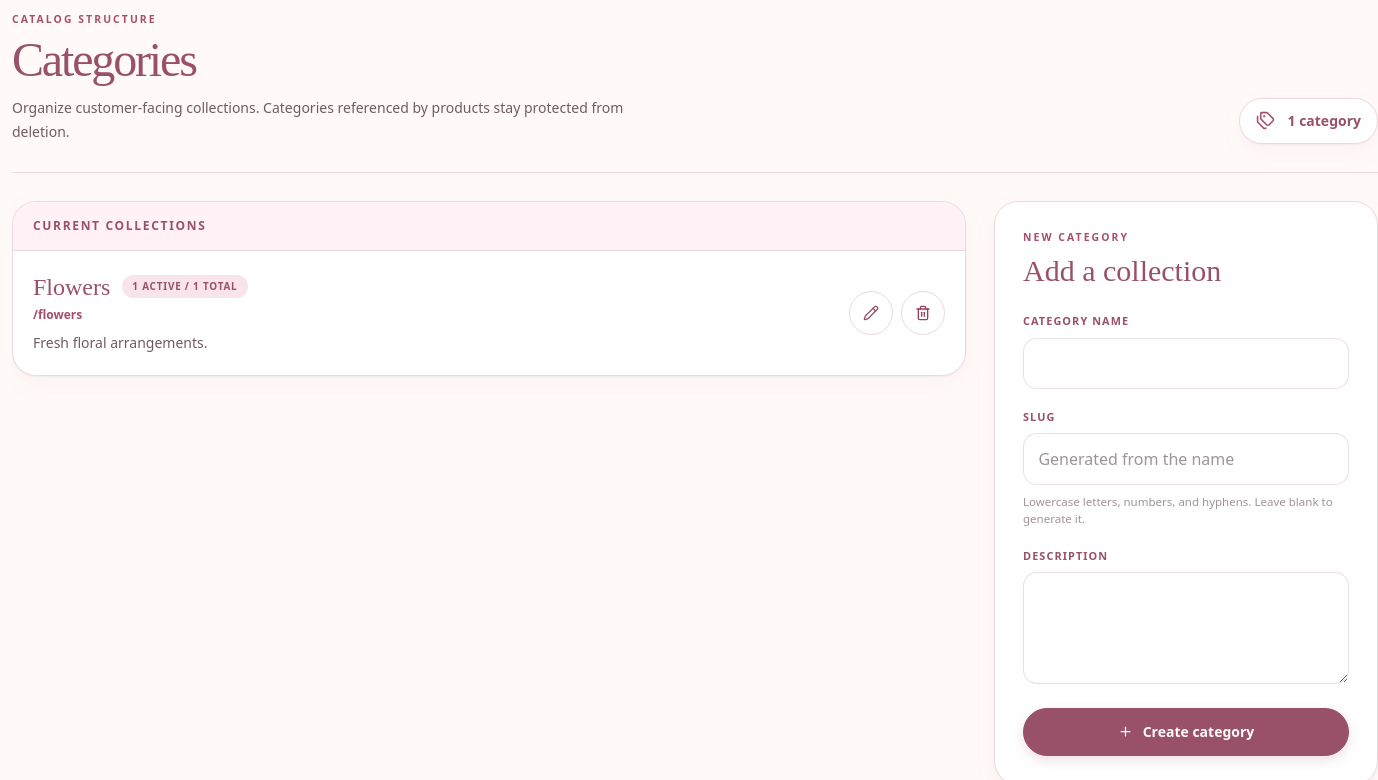
Test case: admin catalog flows › creates a category and refreshes the management list
The image size is (1378, 780).
Expected: the heading "Flowers" is shown, [33,271,110,303]
In the field labelled "Category name": (1186, 363) [1023,338,1349,389], type "Garden Tools"
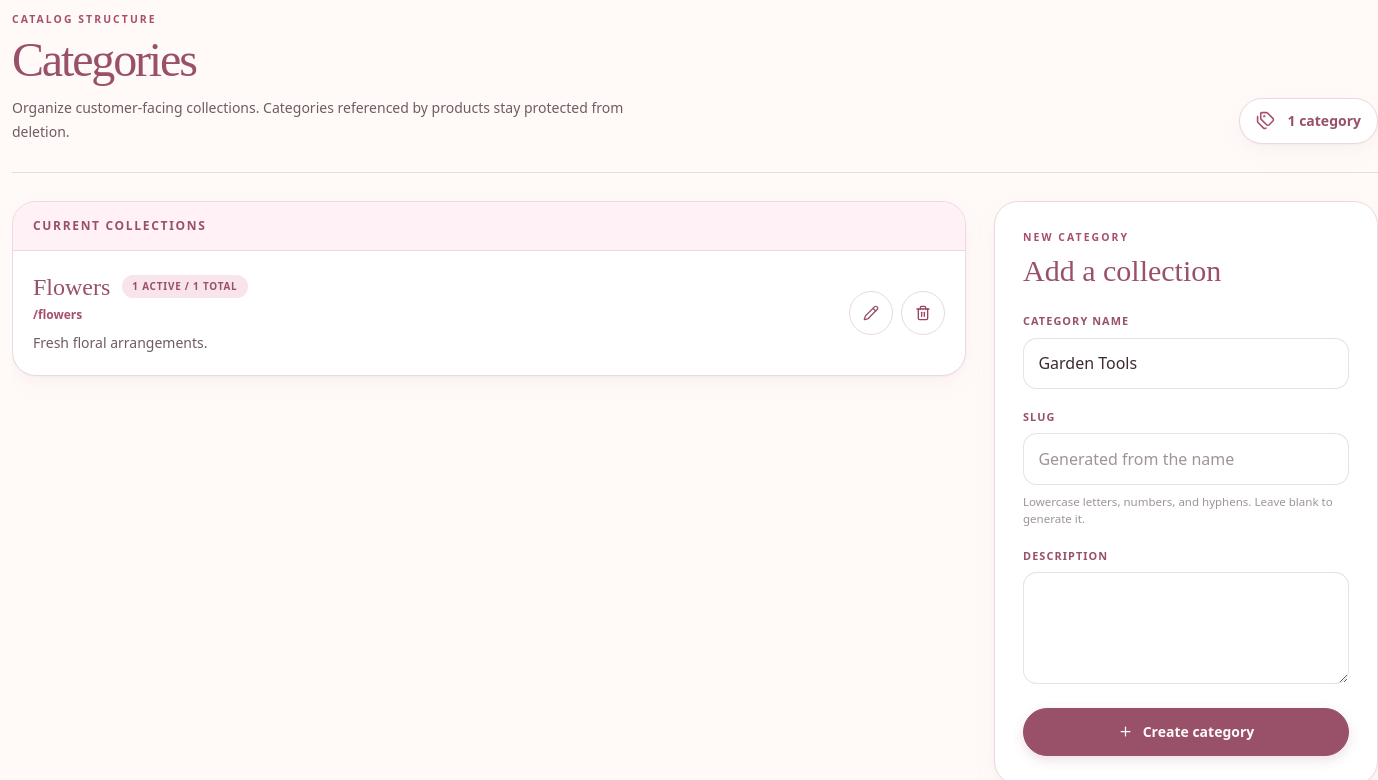
In the field labelled "Slug": (1186, 459) [1023,433,1349,485], type "garden-tools"
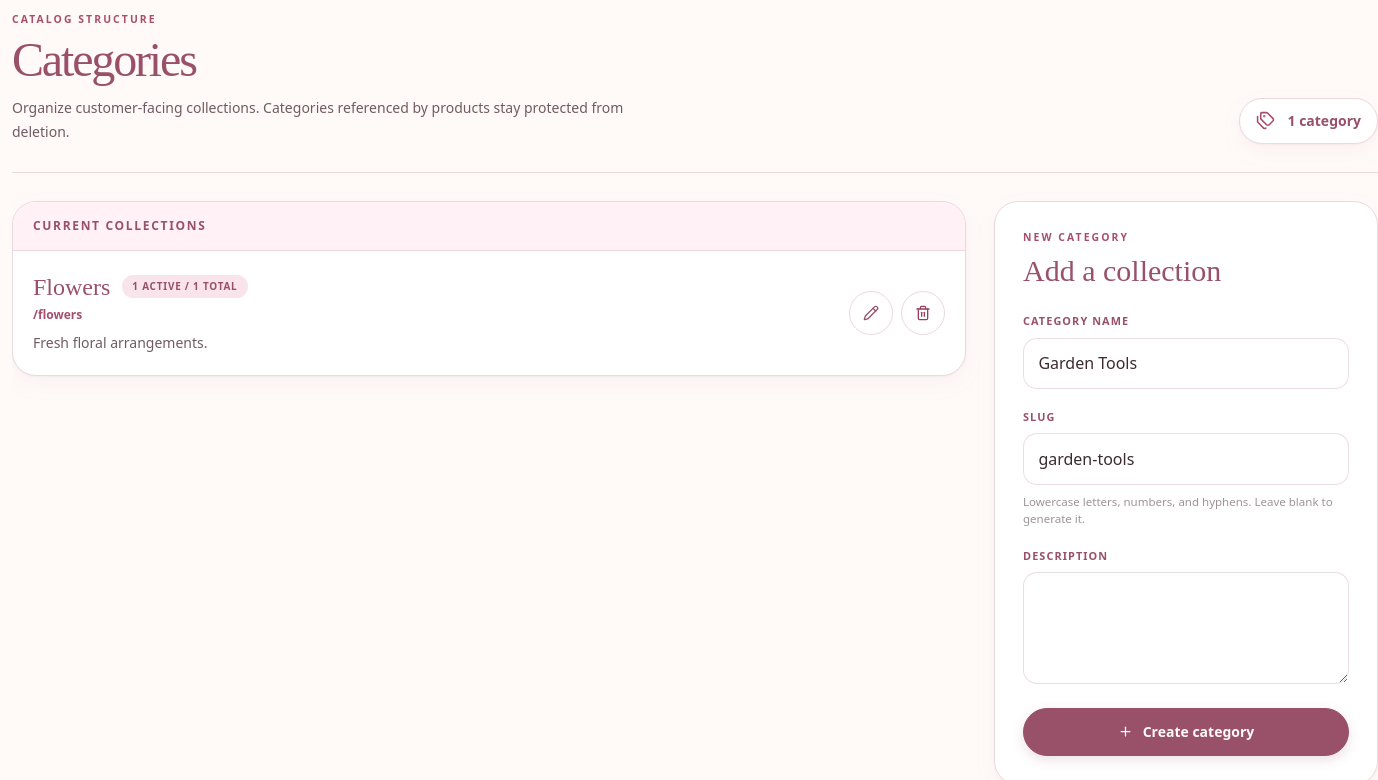
In the text box labelled "Description": (1186, 628) [1023,572,1349,684], type "Tools for home gardeners."
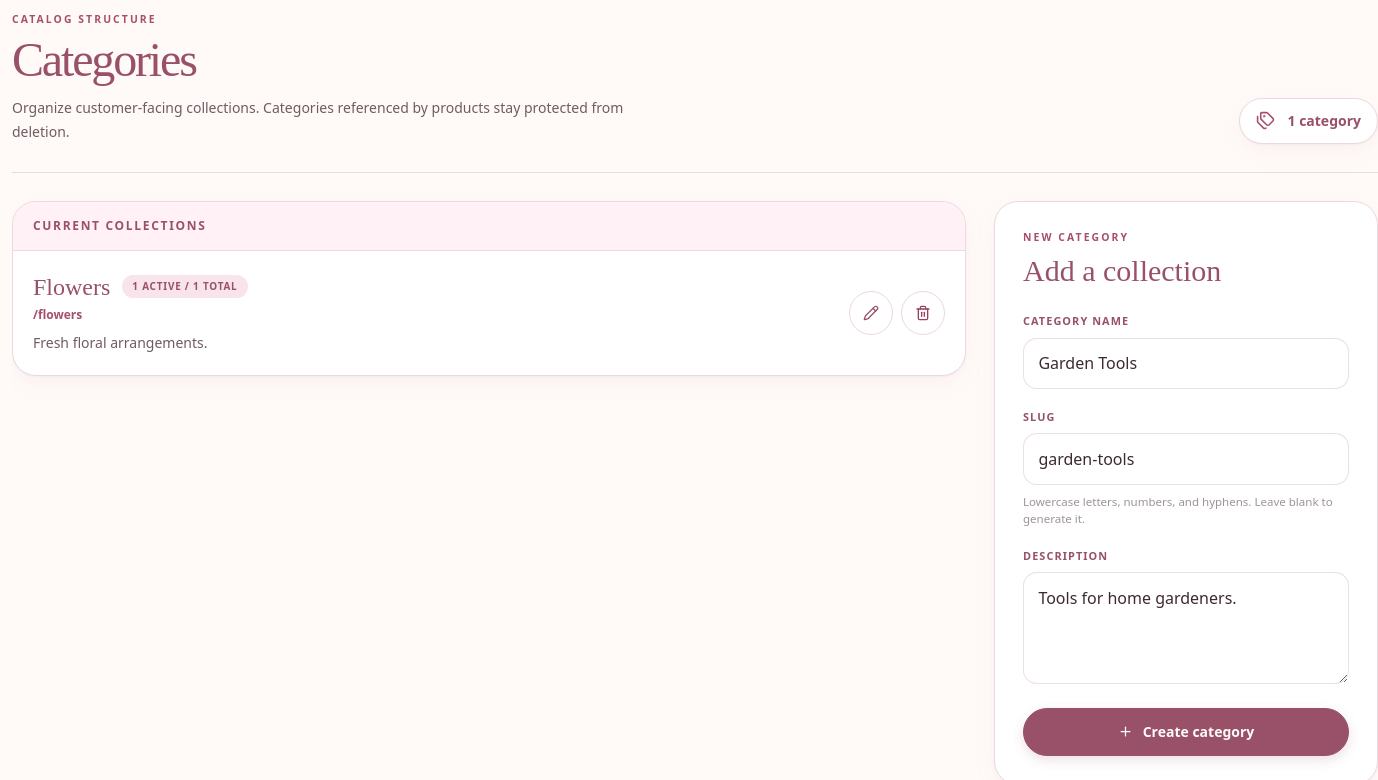
Click the button "Create category": (1186, 732) [1023,708,1349,756]
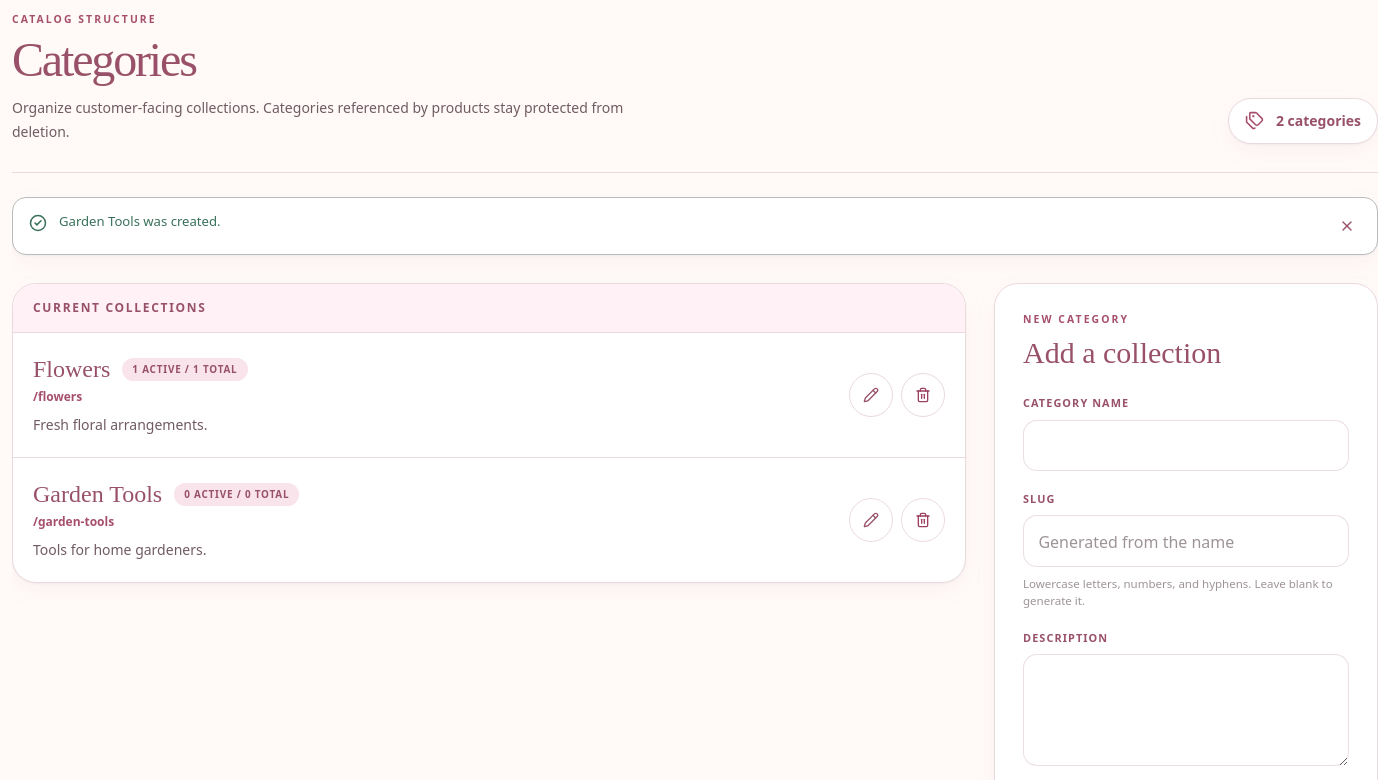
Result: the text "Garden Tools was created." is shown at [59,212,221,230]
Result: the heading "Garden Tools" is shown at [33,478,162,510]
